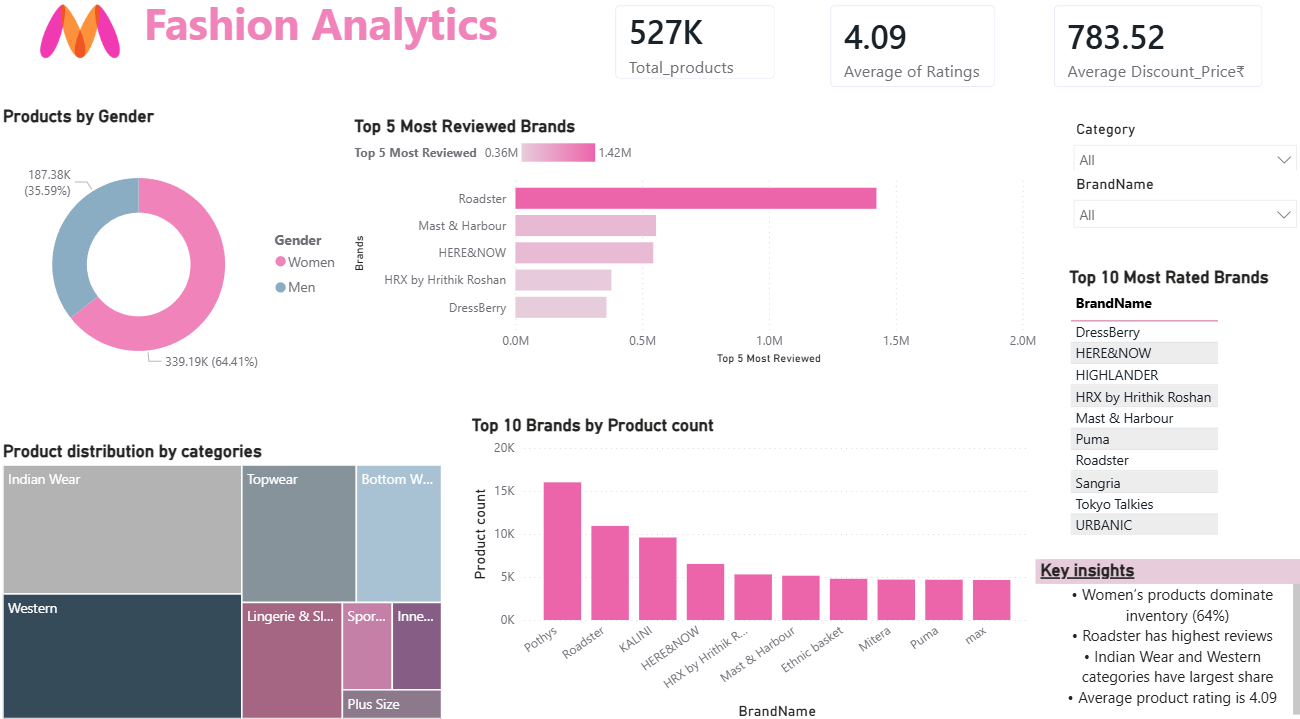

Layout of this report page (visuals, bound fields, positions):
{"tool":"powerbi","page":{"name":"Page 1","canvas":[1280,720],"ordinal":0},"visuals":[{"type":"treemap","title":"Product distribution by categories","fields":{"Group":["Myntra_cleaned.Category"],"Values":["CountNonNull(Myntra_cleaned.BrandName)"]},"box":[0,443.2,439.1,277.2],"z":0},{"type":"donutChart","fields":{"Category":["Myntra_cleaned.category_by_Gender"],"Y":["CountNonNull(Myntra_cleaned.Product_id)"]},"box":[0,134.5,343.1,292.3],"z":1000},{"type":"cardVisual","fields":{"Data":["Count(Myntra_cleaned.Product_id)"]},"box":[542,0,194.9,115.3],"z":2000},{"type":"cardVisual","fields":{"Data":["Avg(Myntra_cleaned.Ratings)"]},"box":[746.5,0,194.9,115.3],"z":3000},{"type":"cardVisual","fields":{"Data":["Avg(Myntra_cleaned.DiscountPrice (in Rs))"]},"box":[960.6,0,238.8,115.3],"z":4000},{"type":"textbox","box":[0,0,526.9,85.1],"z":5000},{"type":"clusteredBarChart","title":"Top 5 Most Reviewed  Brands","fields":{"Y":["Sum(Myntra_cleaned.Reviews)"],"Category":["Myntra_cleaned.BrandName"]},"box":[343.1,124.9,677.9,248.4],"z":7000},{"type":"slicer","fields":{"Values":["Myntra_cleaned.Category"]},"box":[1041.5,124.9,238.8,75.5],"z":8000},{"type":"tableEx","title":"Top 10 Most Rated Brands","fields":{"Values":["Myntra_cleaned.BrandName"]},"box":[1045.6,274.4,234.6,285.4],"z":9000},{"type":"slicer","fields":{"Values":["Myntra_cleaned.BrandName"]},"box":[1041.5,200.3,238.8,79.6],"z":9002},{"type":"columnChart","title":"Top 10 Brands by Product count","fields":{"Category":["Myntra_cleaned.BrandName"],"Y":["CountNonNull(Myntra_cleaned.Product_id)"]},"box":[458.3,417.2,557.1,303.3],"z":9003},{"type":"textbox","title":"Key insights","box":[1015.4,558.5,264.8,161.9],"z":9004}]}

Visuals, with their boxes in screenshot pixels (x1, y1, x2, y2), scaled from the page's 1280x720 canvas onto the 1300x719 screenshot:
"Product distribution by categories" treemap: 0/443/446/718
donutChart - Myntra_cleaned.category_by_Gender x CountNonNull(Myntra_cleaned.Product_id): 0/134/348/426
cardVisual - Count(Myntra_cleaned.Product_id): 550/0/748/115
cardVisual - Avg(Myntra_cleaned.Ratings): 758/0/956/115
cardVisual - Avg(Myntra_cleaned.DiscountPrice (in Rs)): 976/0/1218/115
textbox: 0/0/535/85
"Top 5 Most Reviewed  Brands" clusteredBarChart: 348/125/1037/373
slicer - Myntra_cleaned.Category: 1058/125/1299/200
"Top 10 Most Rated Brands" tableEx: 1062/274/1299/559
slicer - Myntra_cleaned.BrandName: 1058/200/1299/280
"Top 10 Brands by Product count" columnChart: 465/417/1031/718
"Key insights" textbox: 1031/558/1299/718
